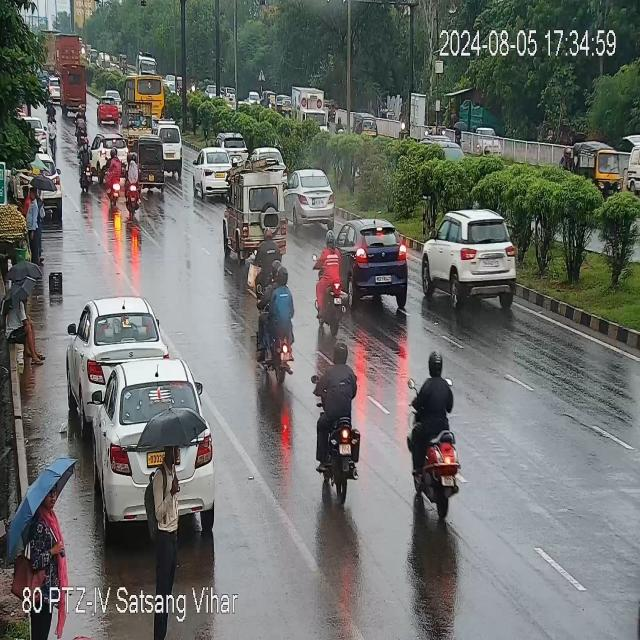2-wheelers: (402, 346, 468, 526), (314, 340, 362, 494), (252, 262, 296, 378), (319, 237, 355, 330), (250, 234, 287, 291), (78, 141, 104, 195), (127, 155, 148, 215), (106, 150, 123, 206), (74, 102, 89, 142)
auto: (560, 139, 627, 195), (138, 135, 166, 194), (356, 116, 406, 145)
bus: (122, 73, 170, 118)
car: (73, 361, 222, 535), (420, 210, 516, 317), (71, 298, 169, 399), (331, 218, 411, 300), (220, 176, 290, 260), (290, 174, 334, 226), (192, 156, 238, 200), (159, 125, 186, 184), (242, 144, 286, 177), (94, 94, 123, 127)
pedestrian: (135, 418, 188, 595), (17, 483, 64, 589), (6, 276, 46, 361), (22, 186, 44, 274), (44, 103, 59, 159)
truck: (287, 84, 330, 132), (57, 65, 87, 114), (52, 31, 81, 65)
